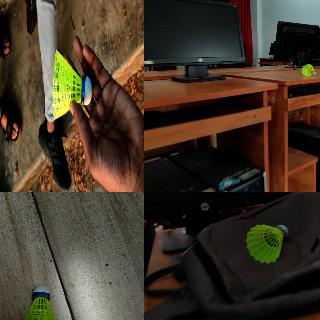shuttlecock: (52, 51, 92, 118), (246, 224, 288, 266), (17, 284, 62, 319), (301, 64, 315, 76)
